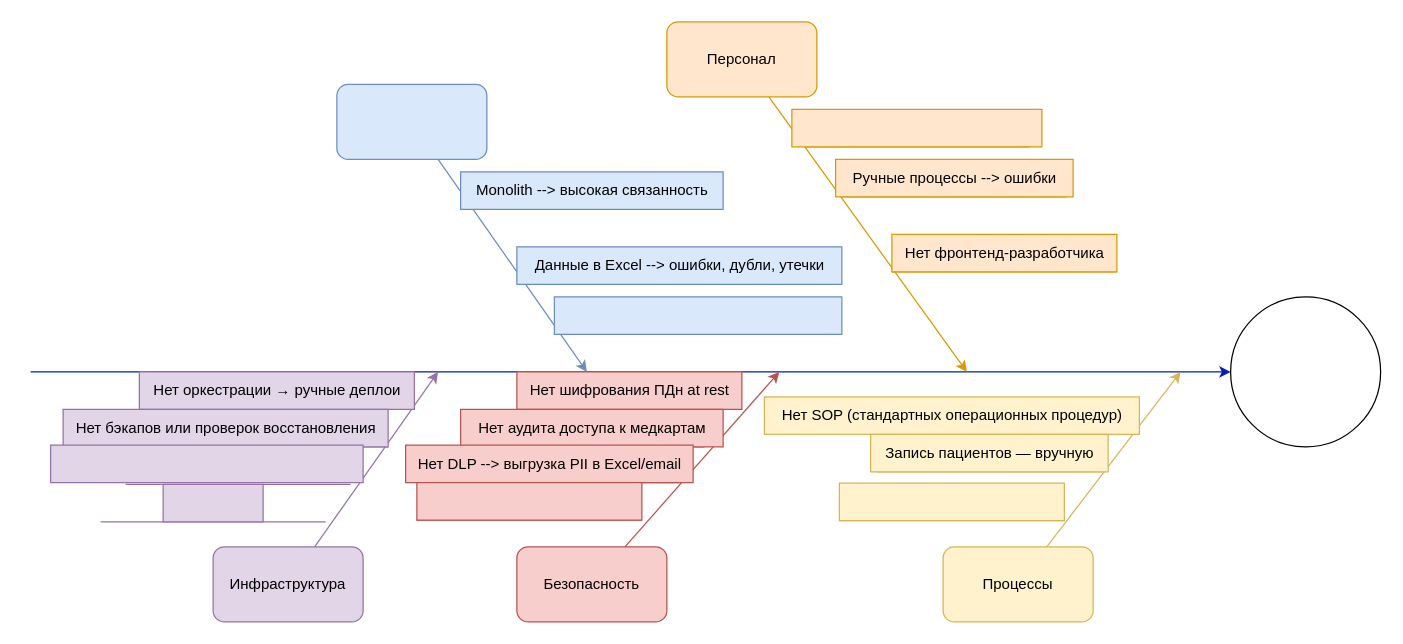
Some shapes in this 1403 by 644 pixel diagram are drawn without their labels. Here are the shapes that lost their labels. From the top down, the centre of each, then its label:
point 411,121: Программное обеспечение
point 916,127: Нет тренингов по безопасности
point 697,315: Нет API → интеграции через файлы
point 1305,371: Критические проблемы текущей архитектуры
point 206,463: Разрозненные серверы без мониторинга
point 212,502: Нет CI/CD
point 529,500: Нет классификации данных
point 951,501: Нет политики удаления ПДн
